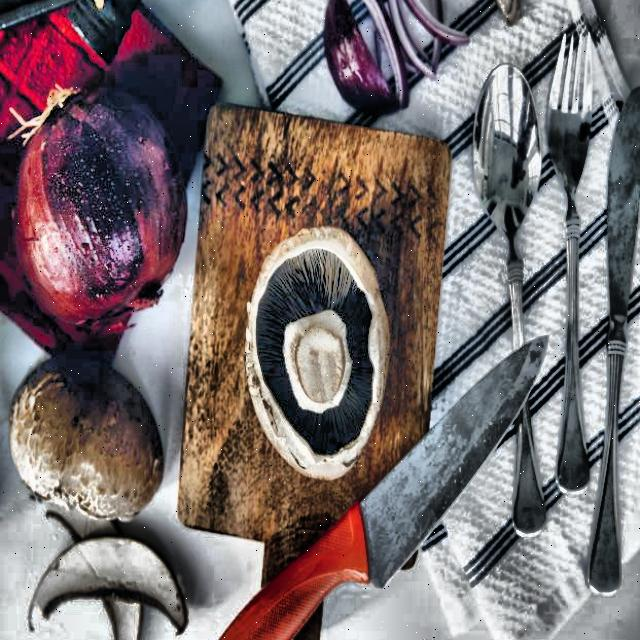knife: (202, 331, 552, 640)
